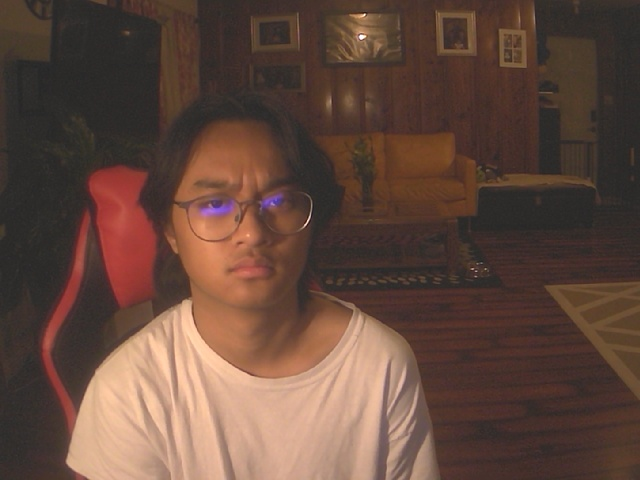anger: (139, 89, 338, 306)
